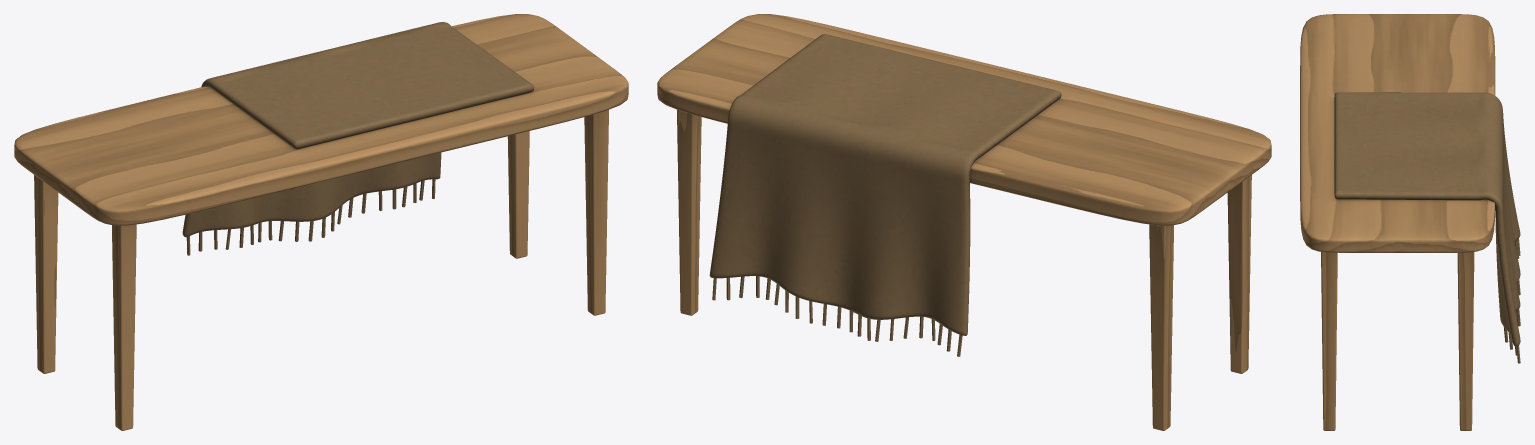
The model's file is knit-camel.glb.
3 renders of one model, left to right at view 1: azimuth 30°, elevation 25°; view 2: azimuth 150°, elevation 25°; view 3: azimuth 270°, elevation 25°, orthographic. The views are drawn at different scales.
Visible parts, largest first — view 1: bench_wood, throw_knit, bench_wood_v; view 2: throw_knit, bench_wood, bench_wood_v; view 3: bench_wood, throw_knit, bench_wood_v.
Boxes of the visible parts, x1,y1,x2,y2 form: bench_wood: (14, 14, 628, 225); throw_knit: (182, 22, 534, 255); bench_wood_v: (34, 109, 608, 430); throw_knit: (709, 34, 1061, 356); bench_wood: (657, 14, 1271, 225); bench_wood_v: (677, 109, 1251, 430); bench_wood: (1300, 14, 1495, 252); throw_knit: (1334, 92, 1520, 363); bench_wood_v: (1321, 252, 1474, 430).
Size of the model in its own units: 1.1 by 0.4787 by 0.4524.
Materials: 3 (3 with a texture image).
